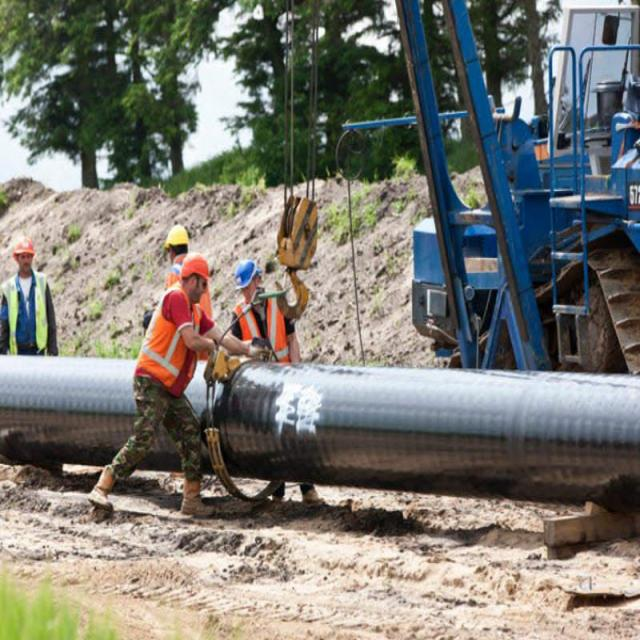gas: (277, 348, 640, 505), (1, 349, 161, 456)
